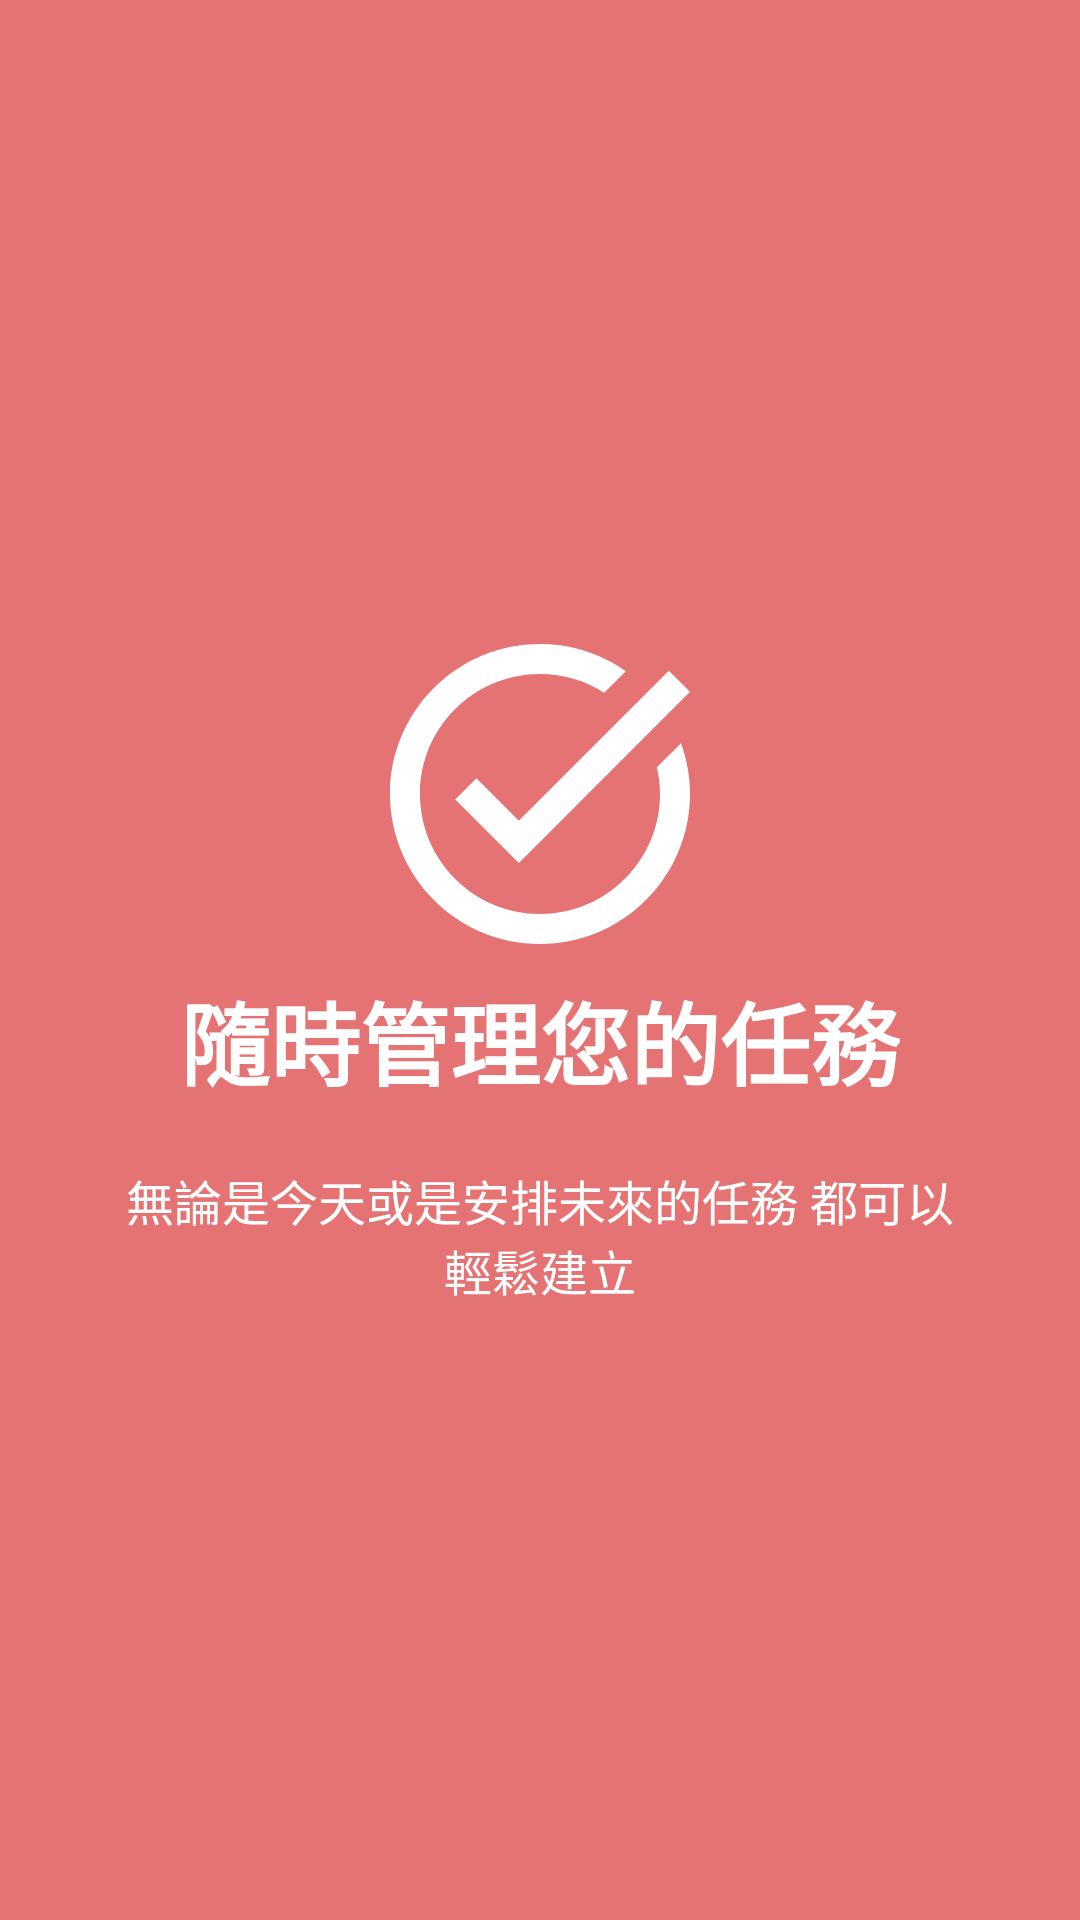

Point at icon controls on the screen. Image size 1080×1920, points as (x=x, y=y).
task: (x=540, y=794)
